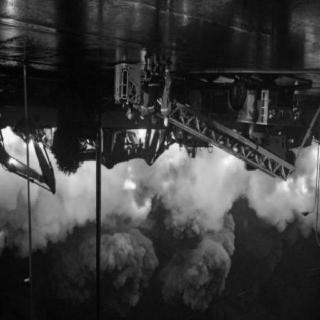Smoke: (5, 182, 312, 312)
